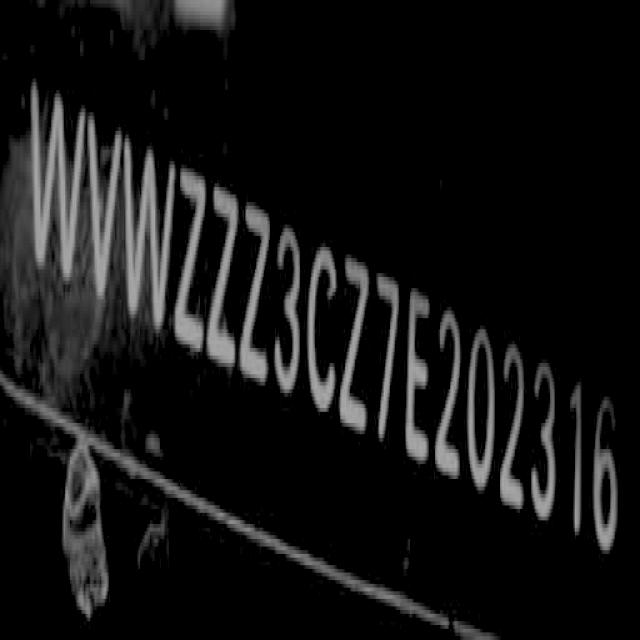0: (464, 314, 494, 508)
1: (566, 367, 583, 552)
2: (501, 334, 528, 522), (434, 305, 462, 484)
3: (274, 210, 306, 408), (531, 348, 559, 534)
6: (594, 380, 622, 562)
7: (377, 256, 404, 462)
C: (306, 229, 339, 423)
E: (402, 276, 429, 471)
V: (86, 112, 121, 309)
W: (25, 74, 85, 294), (120, 130, 174, 348)
Z: (176, 155, 210, 364), (239, 192, 273, 394), (207, 170, 240, 378), (341, 246, 372, 441)
